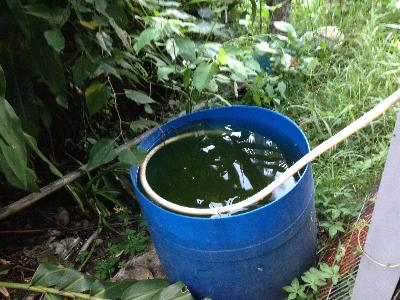bucket: (129, 105, 318, 300)
